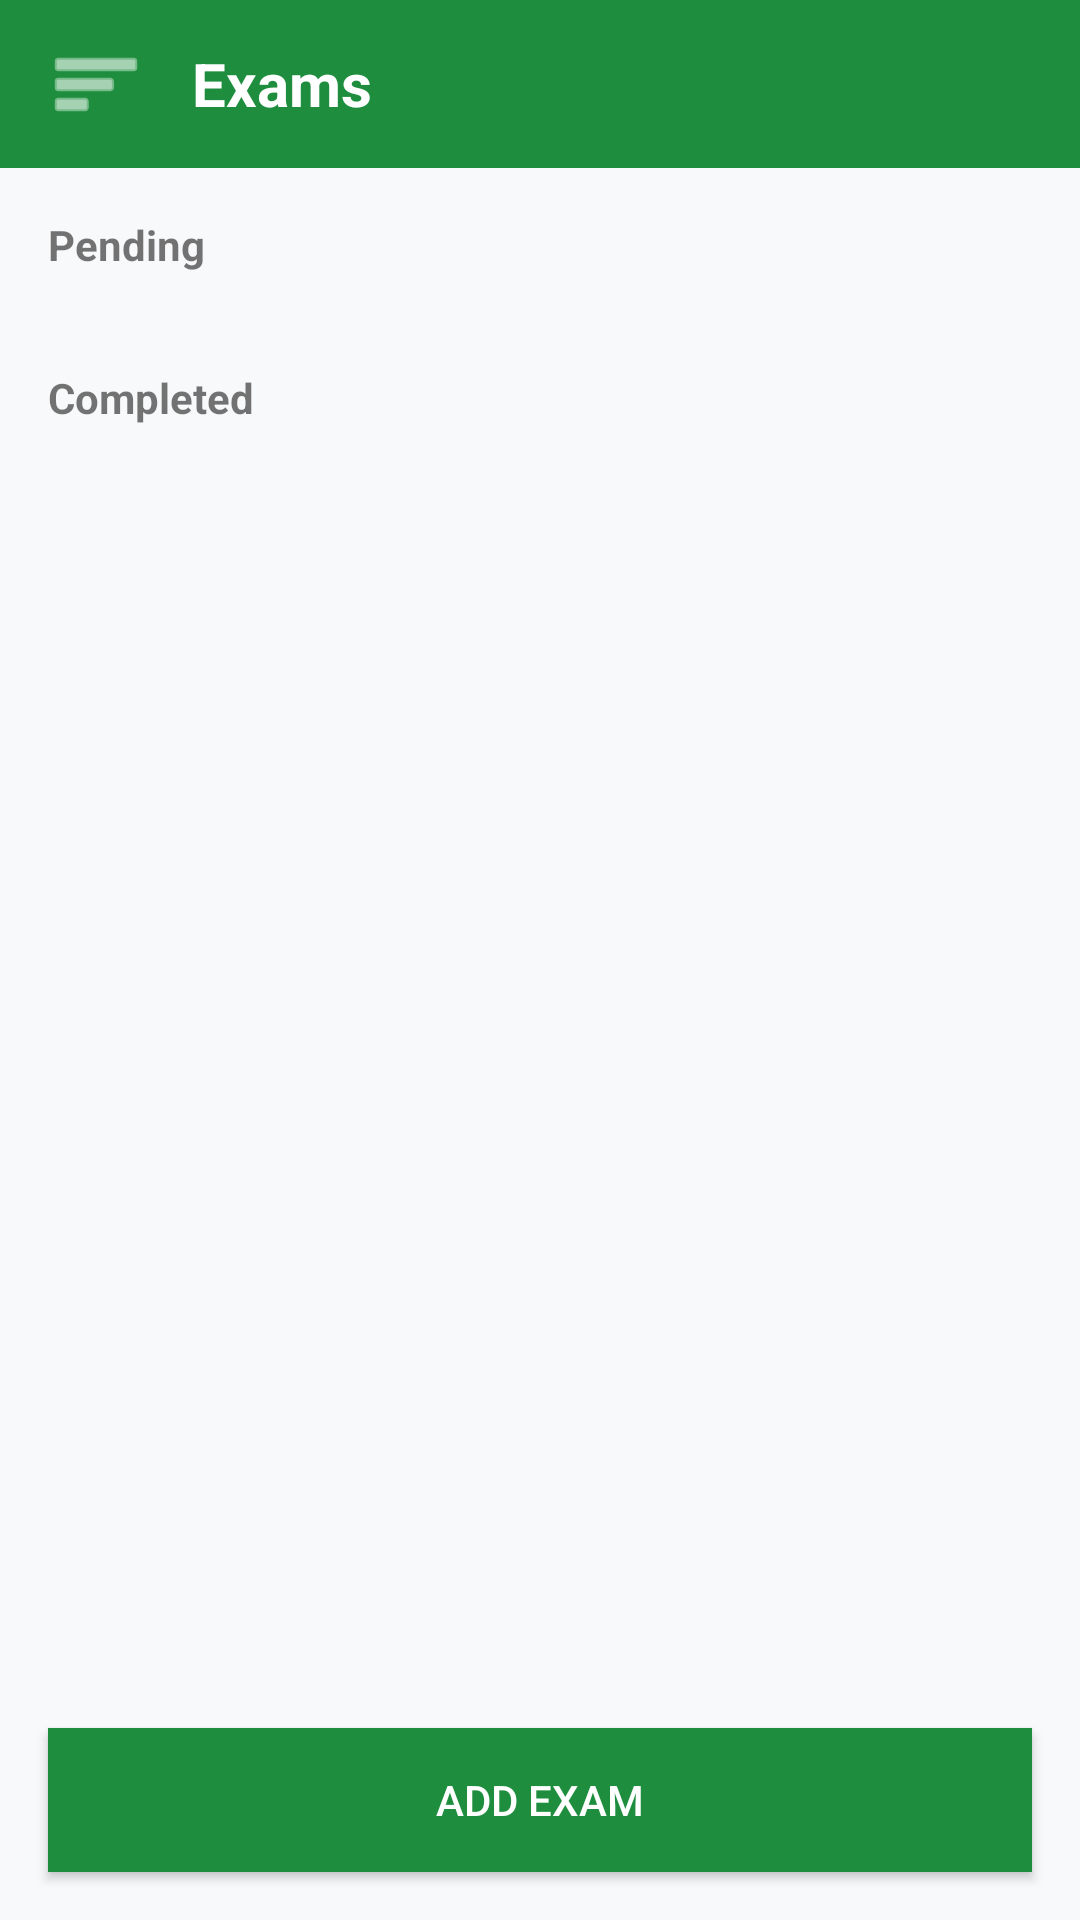

Screen size 1080px x 1920px. Icon name, then its center in pixels as point (x, y):
Open Menu: point (96, 84)
